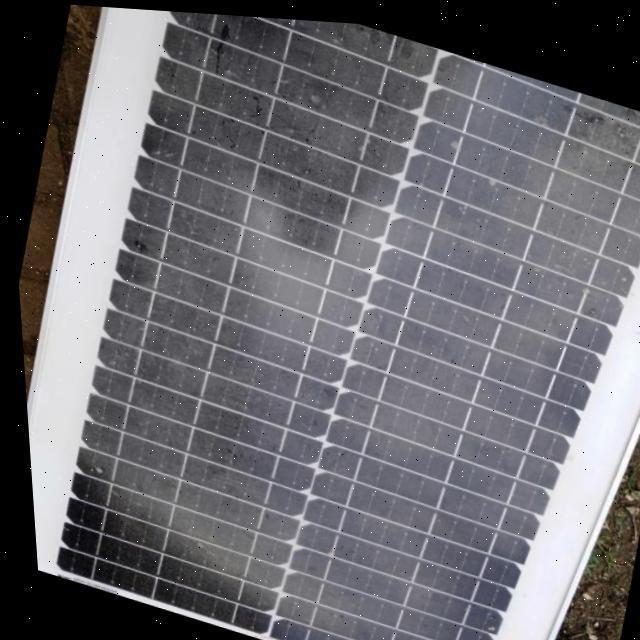Surface Contaminant: (26, 7, 592, 640)
